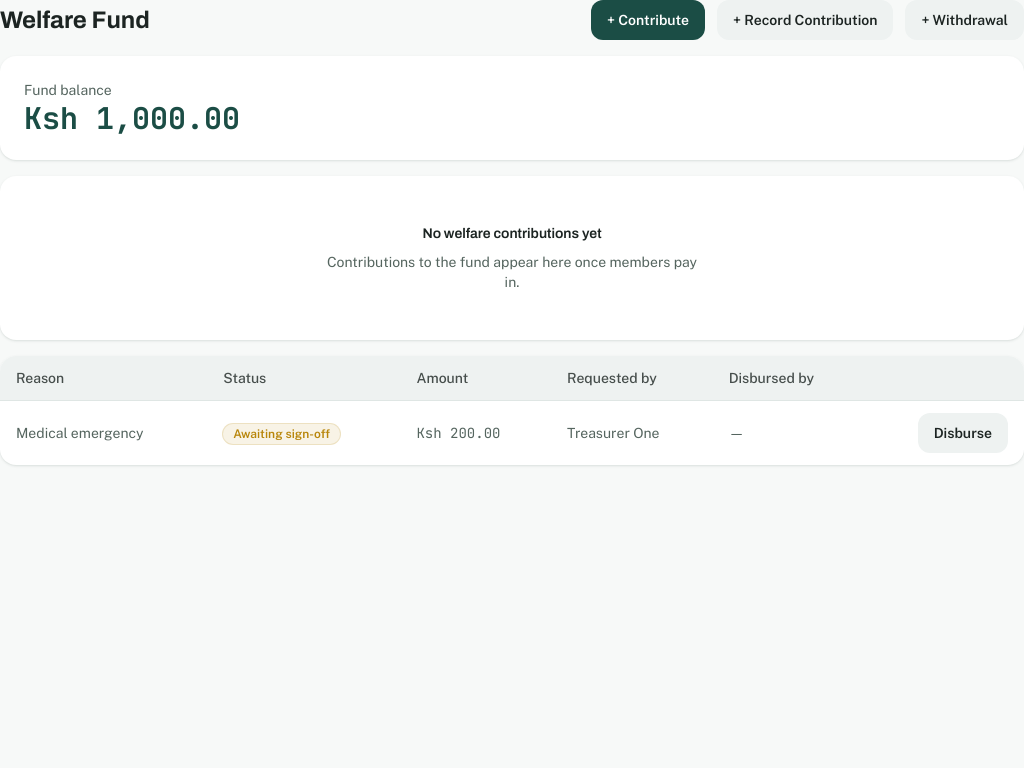
Test case: WelfareFundPage › lets a manager cancel out of the disburse confirmation
Click the button "Disburse": (963, 433) [918, 413, 1008, 453]
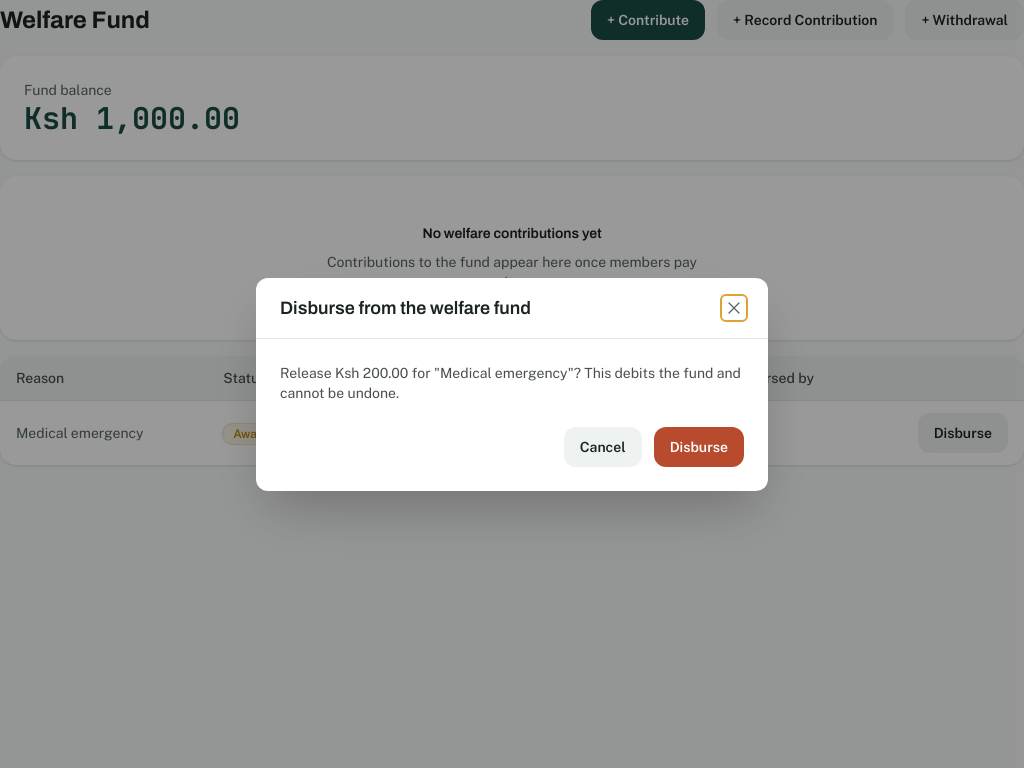
Click the button "Cancel": (603, 446) [564, 426, 642, 466]
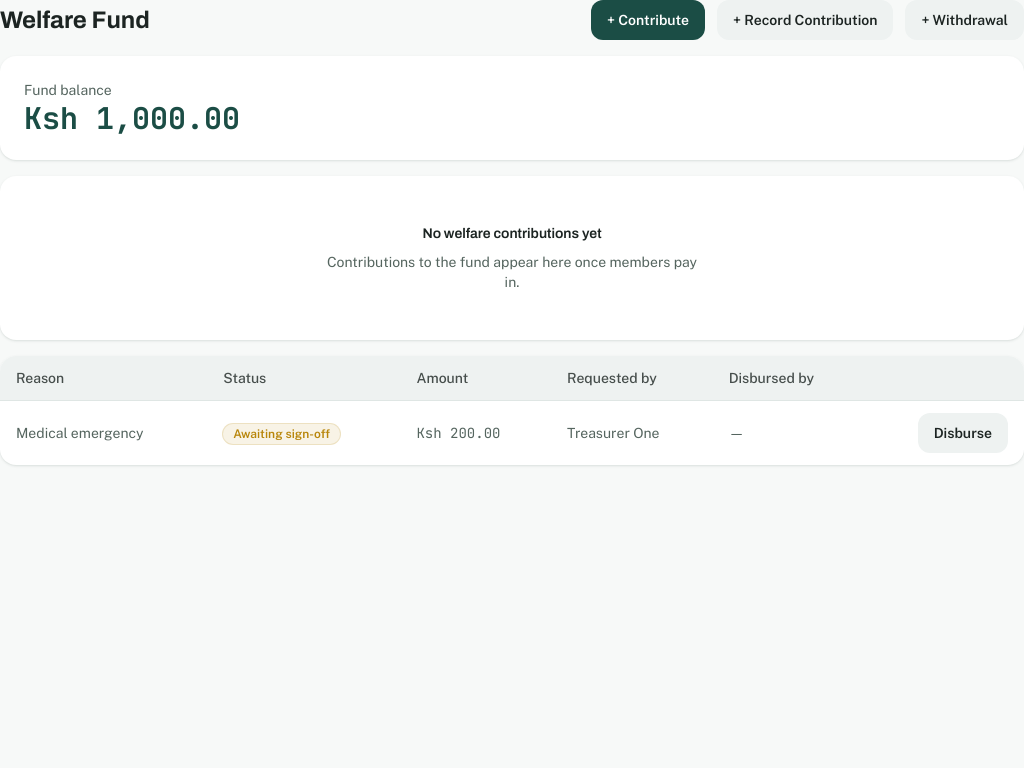
Expected: the text "cannot be undone" is gone
